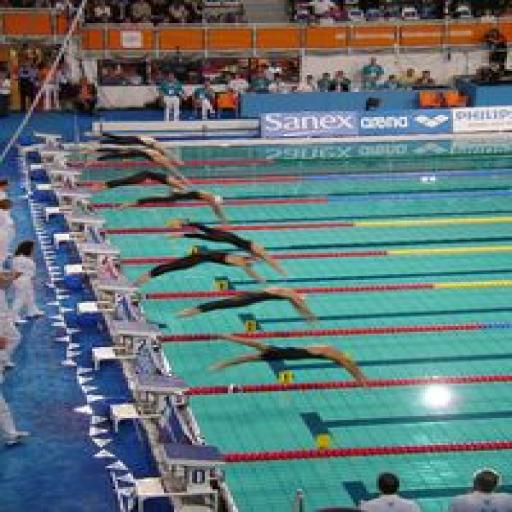swimming: (202, 330, 374, 391), (159, 215, 292, 278), (133, 242, 277, 288), (172, 282, 322, 326), (112, 184, 236, 224)
